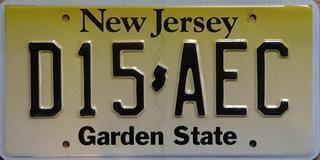placa de veiculo: (3, 3, 308, 155)
